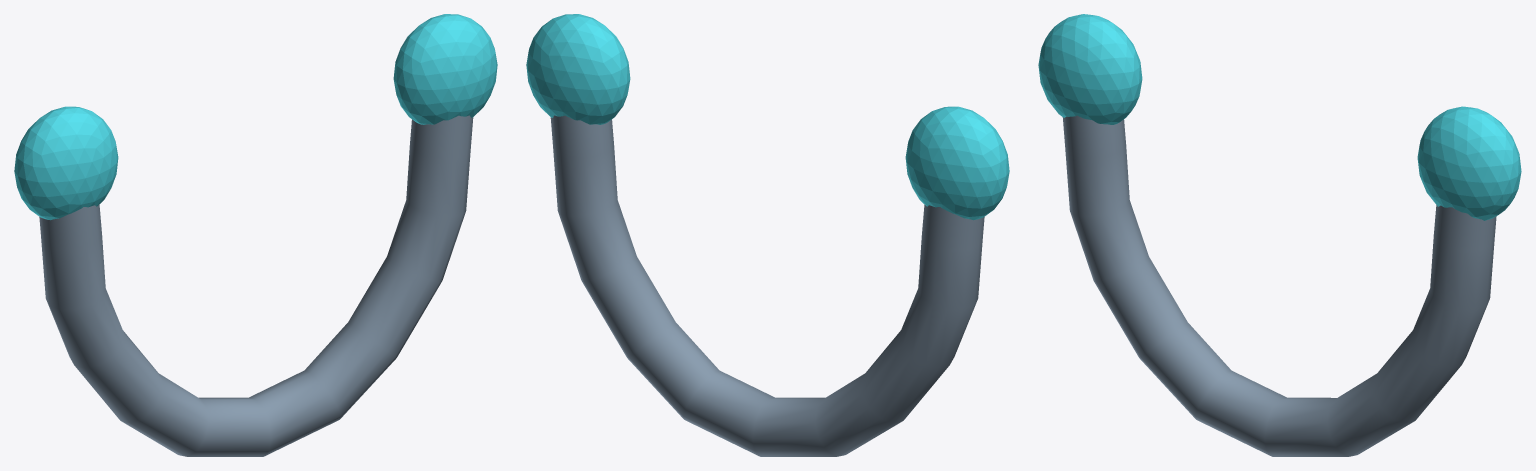
The model's file is necklace_v2.glb.
The picture shows the model from 3 angles, left to right: view 1: azimuth 30°, elevation 25°; view 2: azimuth 150°, elevation 25°; view 3: azimuth 330°, elevation 25°; orthographic projection.
Visible parts, largest first — view 1: OPEN_TORQUE_PRIMARY, TORQUE_END_ACCENT, TORQUE_END_ACCENT.001; view 2: OPEN_TORQUE_PRIMARY, TORQUE_END_ACCENT, TORQUE_END_ACCENT.001; view 3: OPEN_TORQUE_PRIMARY, TORQUE_END_ACCENT.001, TORQUE_END_ACCENT.
Boxes of the visible parts, x1,y1,x2,y2 form: OPEN_TORQUE_PRIMARY: (39, 115, 473, 456); TORQUE_END_ACCENT: (14, 106, 118, 220); TORQUE_END_ACCENT.001: (393, 14, 497, 124); OPEN_TORQUE_PRIMARY: (550, 115, 984, 456); TORQUE_END_ACCENT: (905, 106, 1009, 220); TORQUE_END_ACCENT.001: (526, 14, 630, 124); OPEN_TORQUE_PRIMARY: (1062, 115, 1496, 456); TORQUE_END_ACCENT.001: (1417, 106, 1521, 220); TORQUE_END_ACCENT: (1038, 14, 1142, 124).
Bounding box in the file's own units: 2.16 × 1.7 × 0.3.
